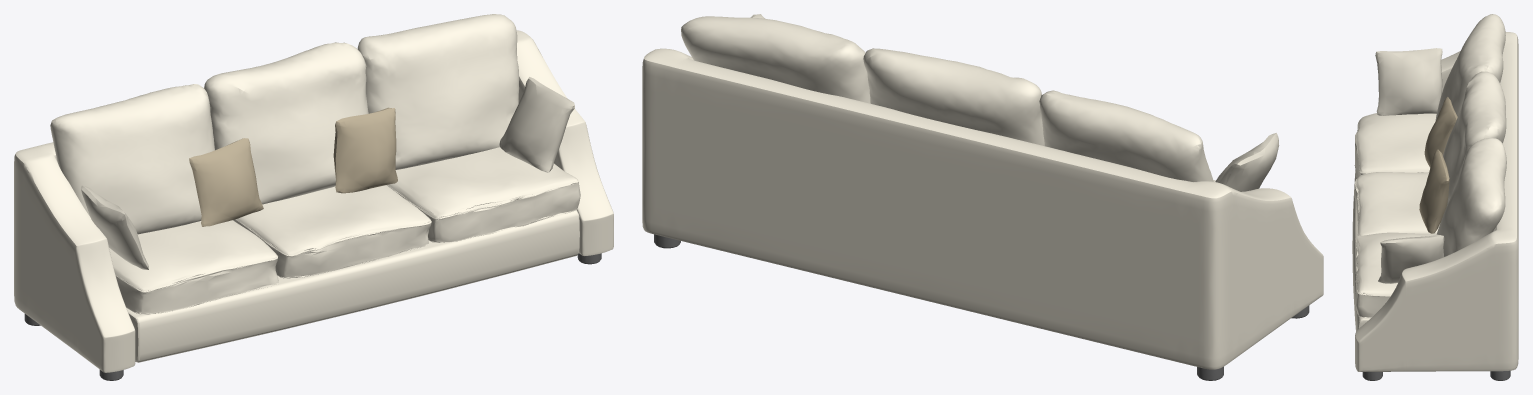
Rendered from sh_scopia_beige_sofa.glb.
3 renders of one model, left to right at view 1: azimuth 30°, elevation 25°; view 2: azimuth 150°, elevation 25°; view 3: azimuth 270°, elevation 25°, orthographic. The views are drawn at different scales.
Bounding box in the file's own units: 2.23 × 0.879 × 0.74.
